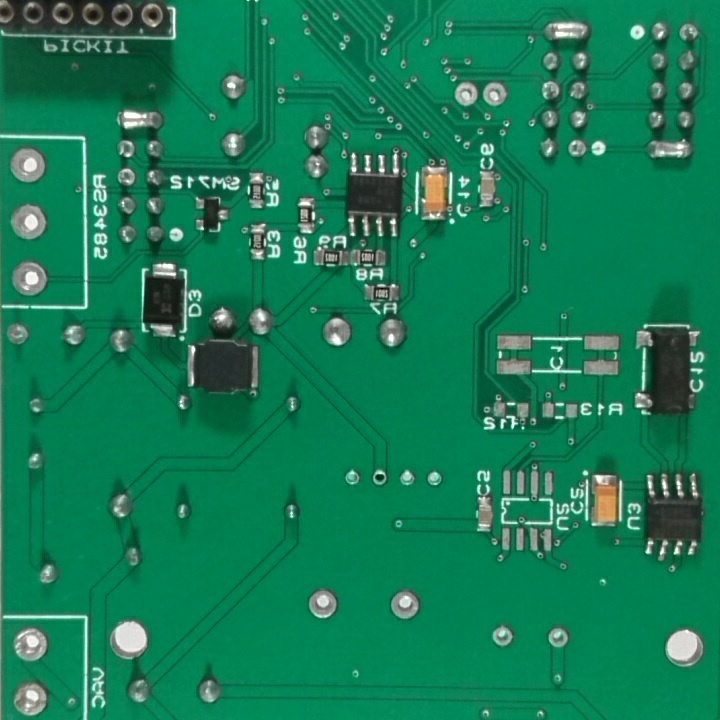F: (5, 201, 50, 244), (9, 625, 53, 666), (7, 146, 53, 184), (9, 258, 50, 300), (10, 678, 52, 718), (305, 586, 341, 625), (389, 587, 424, 623), (487, 622, 519, 651), (543, 623, 572, 654), (481, 81, 513, 109), (2, 320, 30, 349), (451, 80, 479, 107), (678, 17, 701, 46), (424, 467, 446, 493), (396, 466, 418, 491), (115, 165, 137, 189), (368, 467, 390, 490), (540, 80, 561, 103), (341, 466, 361, 489), (567, 139, 587, 161)
P: (643, 136, 699, 166), (112, 106, 168, 132), (541, 20, 595, 45)
